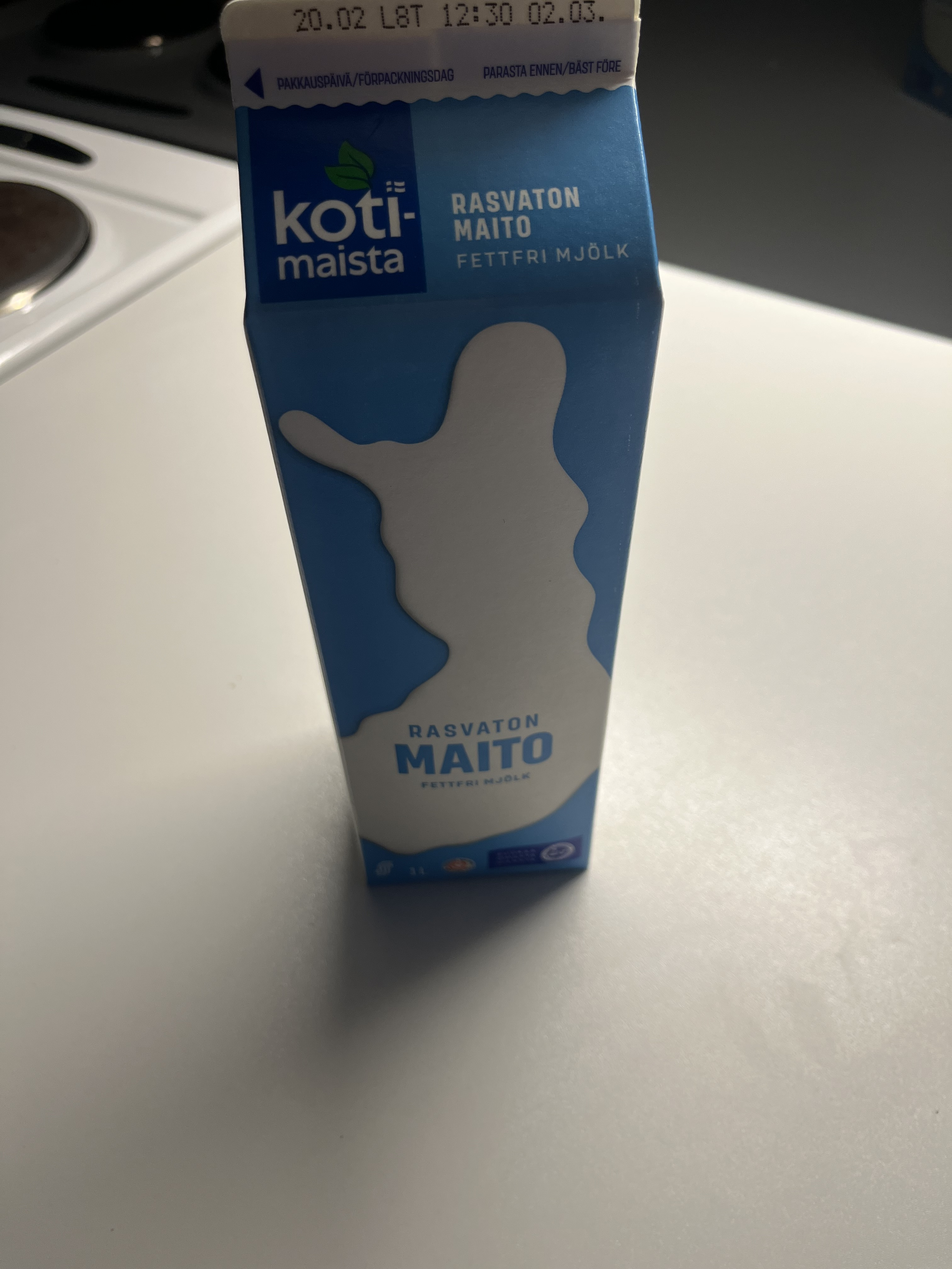Dryckeskartong: (219, 5, 667, 892)
